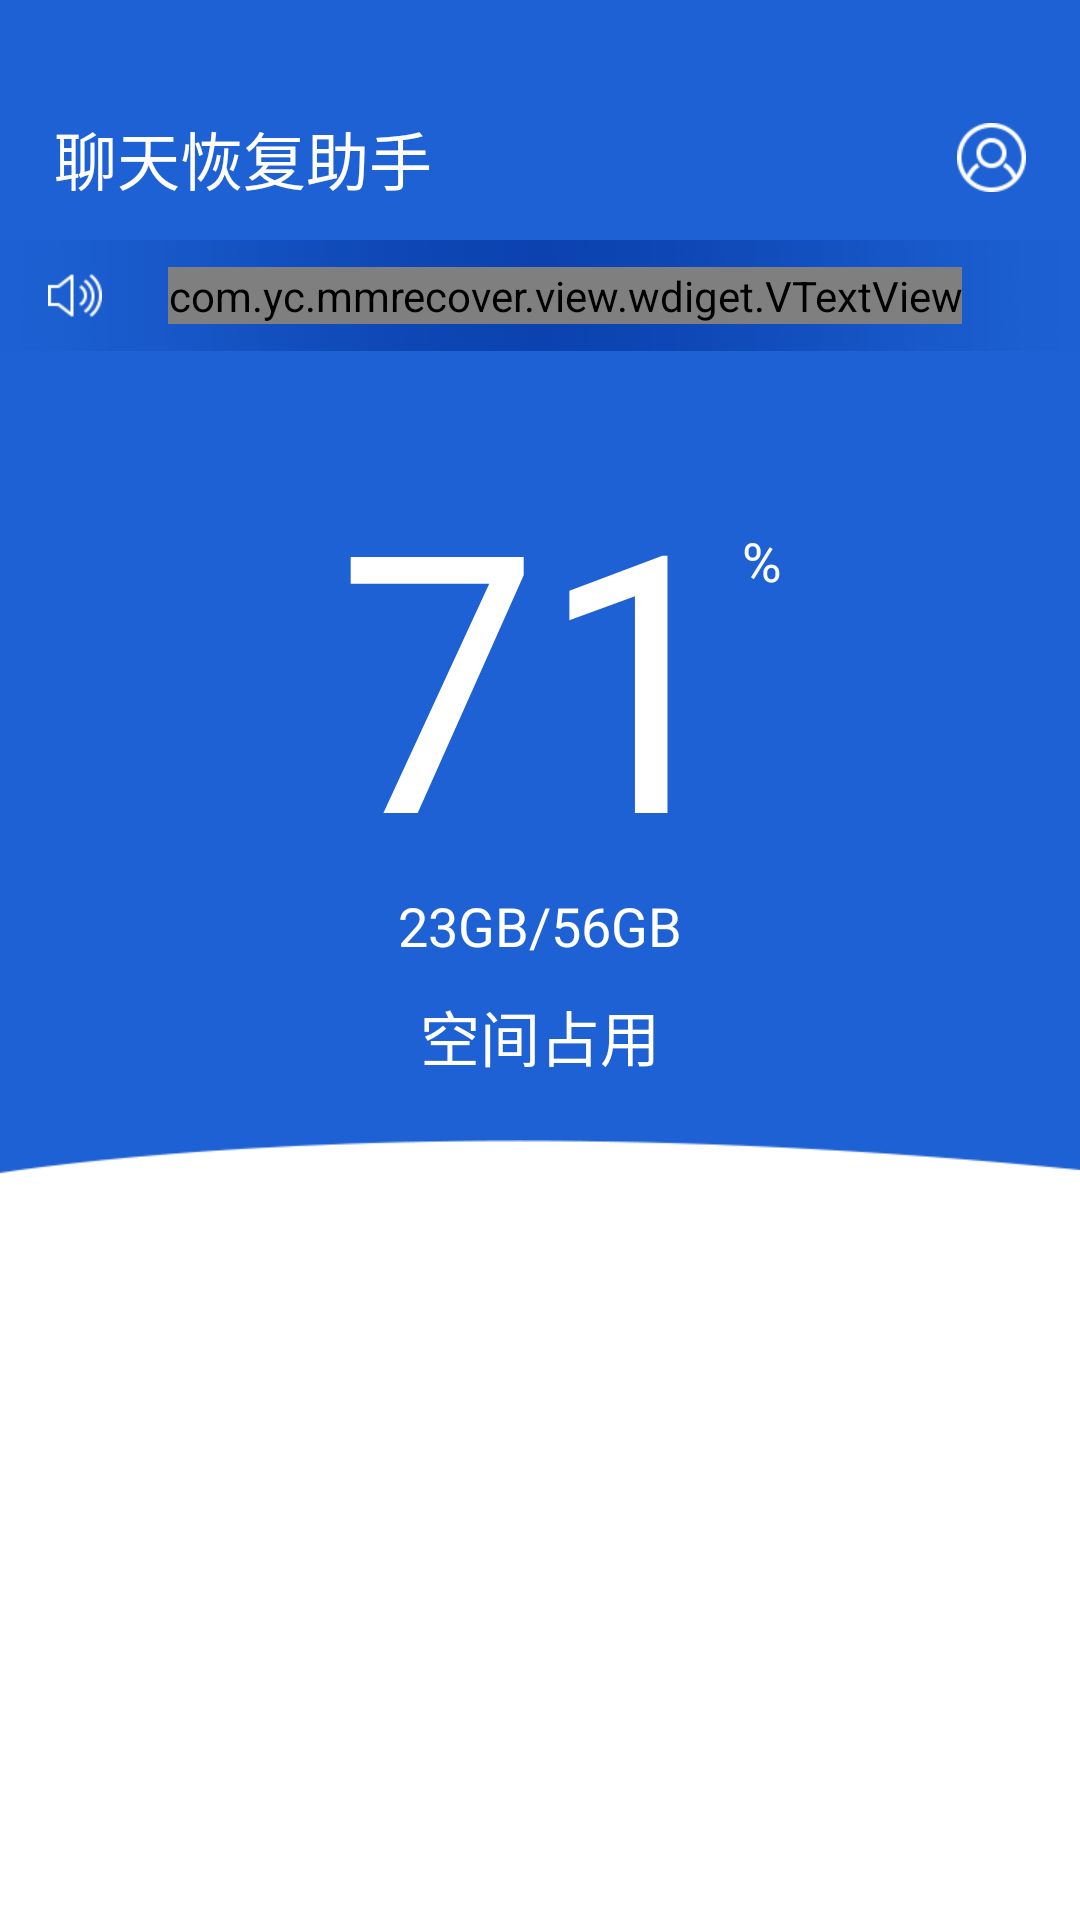

Named icons in this screenshot (1080px×1920px) and their bounding boxes, [x1,y1,x2,y2]:
home user: [957,123,1026,192]
